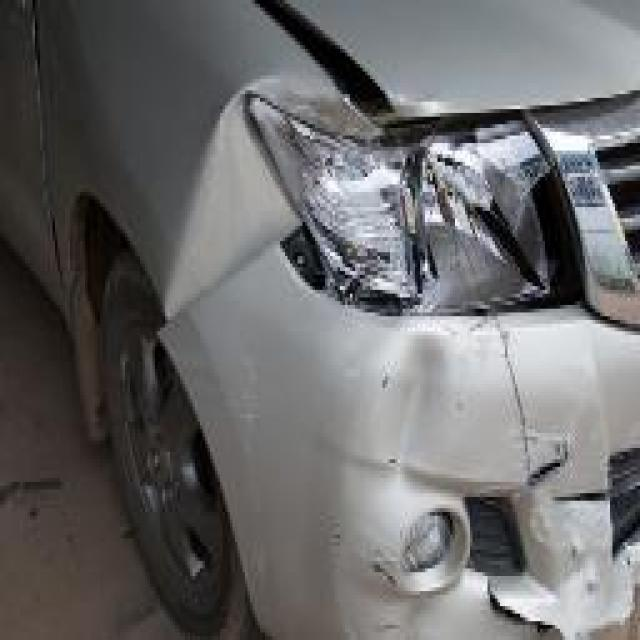Bonnet: (259, 0, 468, 136)
Bumper: (155, 225, 640, 637)
